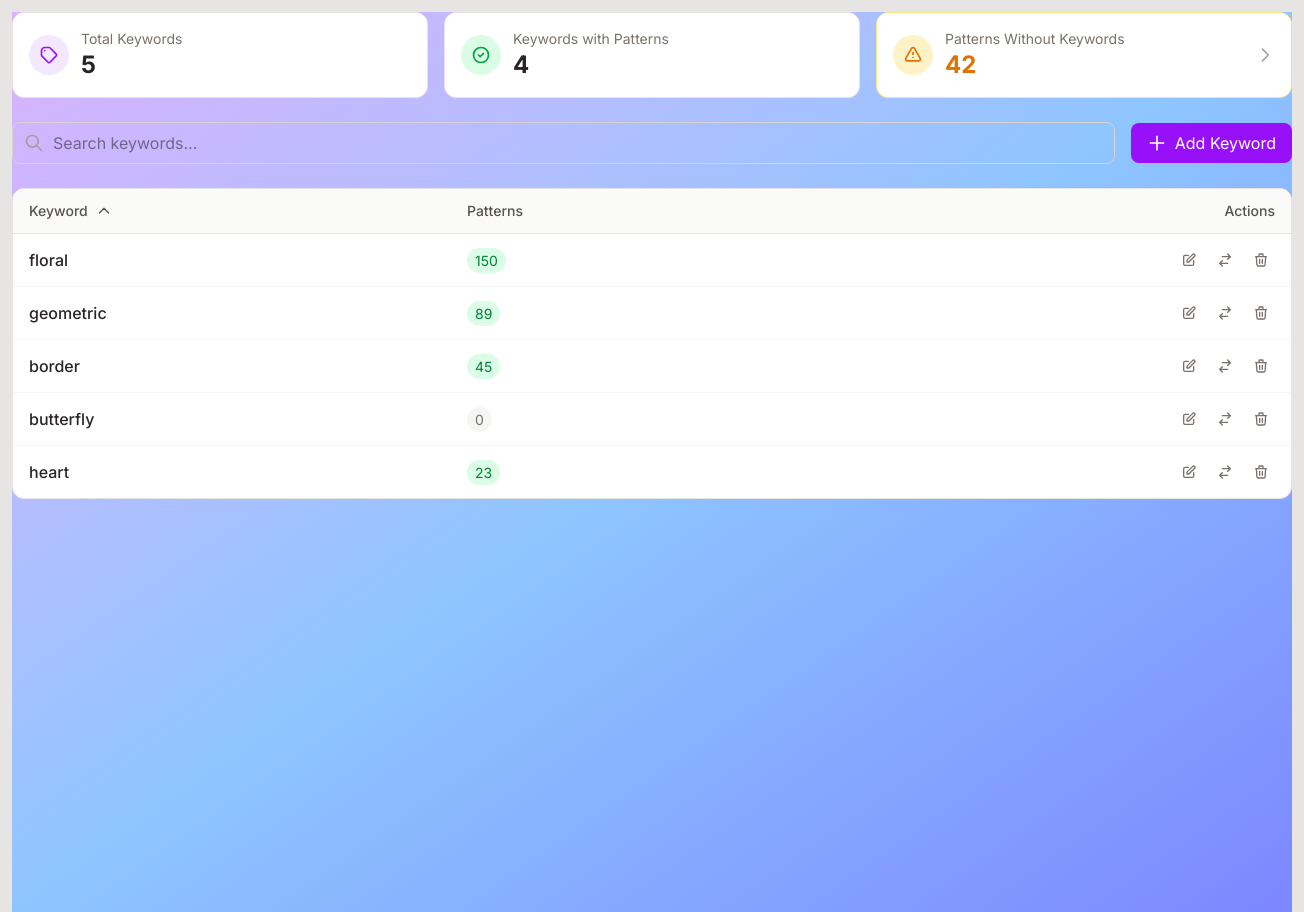
Scenario: KeywordManager › search functionality › shows all keywords when search is cleared
This screenshot has width=1304, height=912.
Expected: the text "floral" is shown, 29,250 -> 68,270
Type "geo" into the field with placeholder "Search keywords..." at (563,143), box 12,122 -> 1115,164
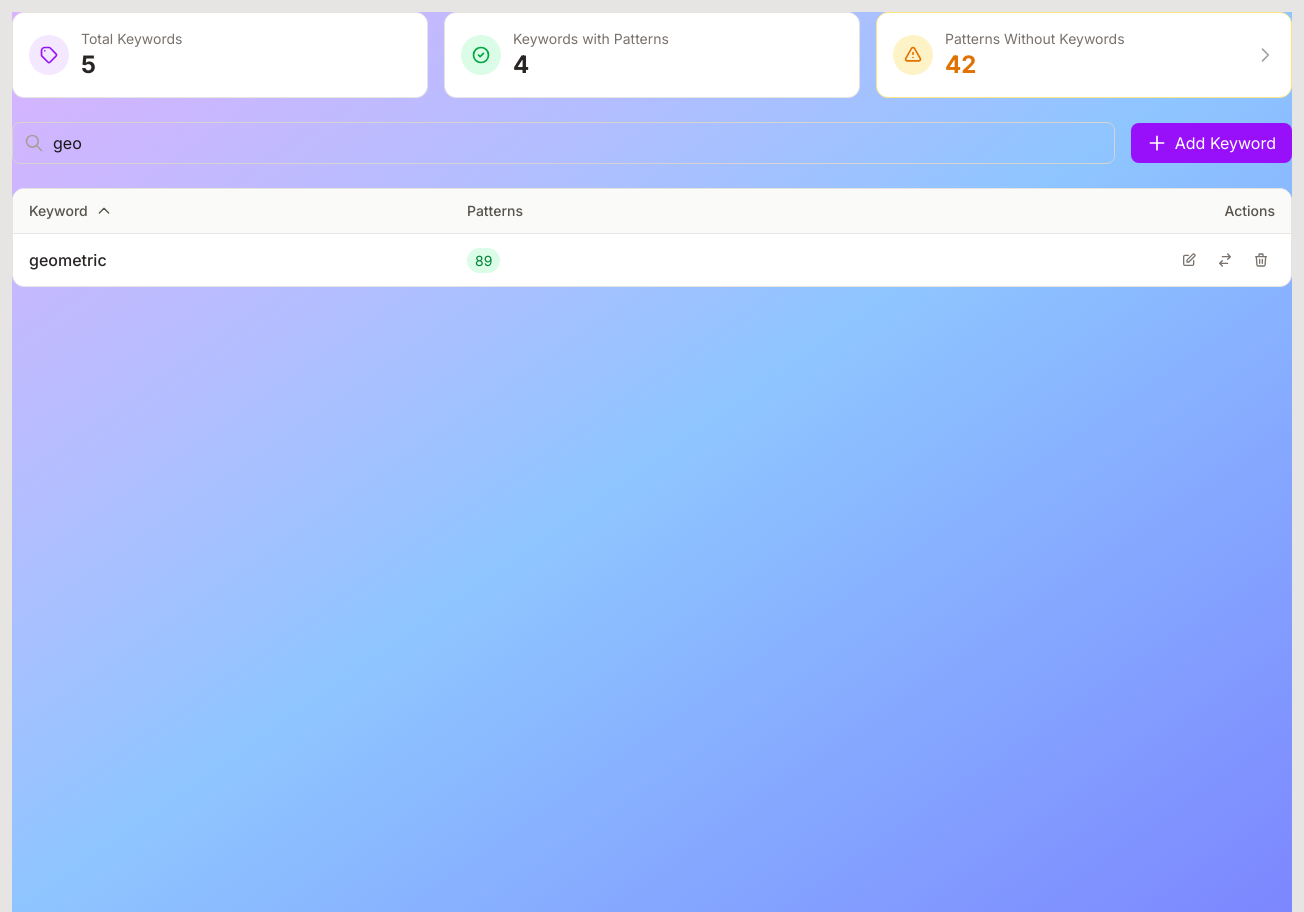
Now the text "floral" is gone
Clear the field with placeholder "Search keywords..." at (563,143), box 12,122 -> 1115,164
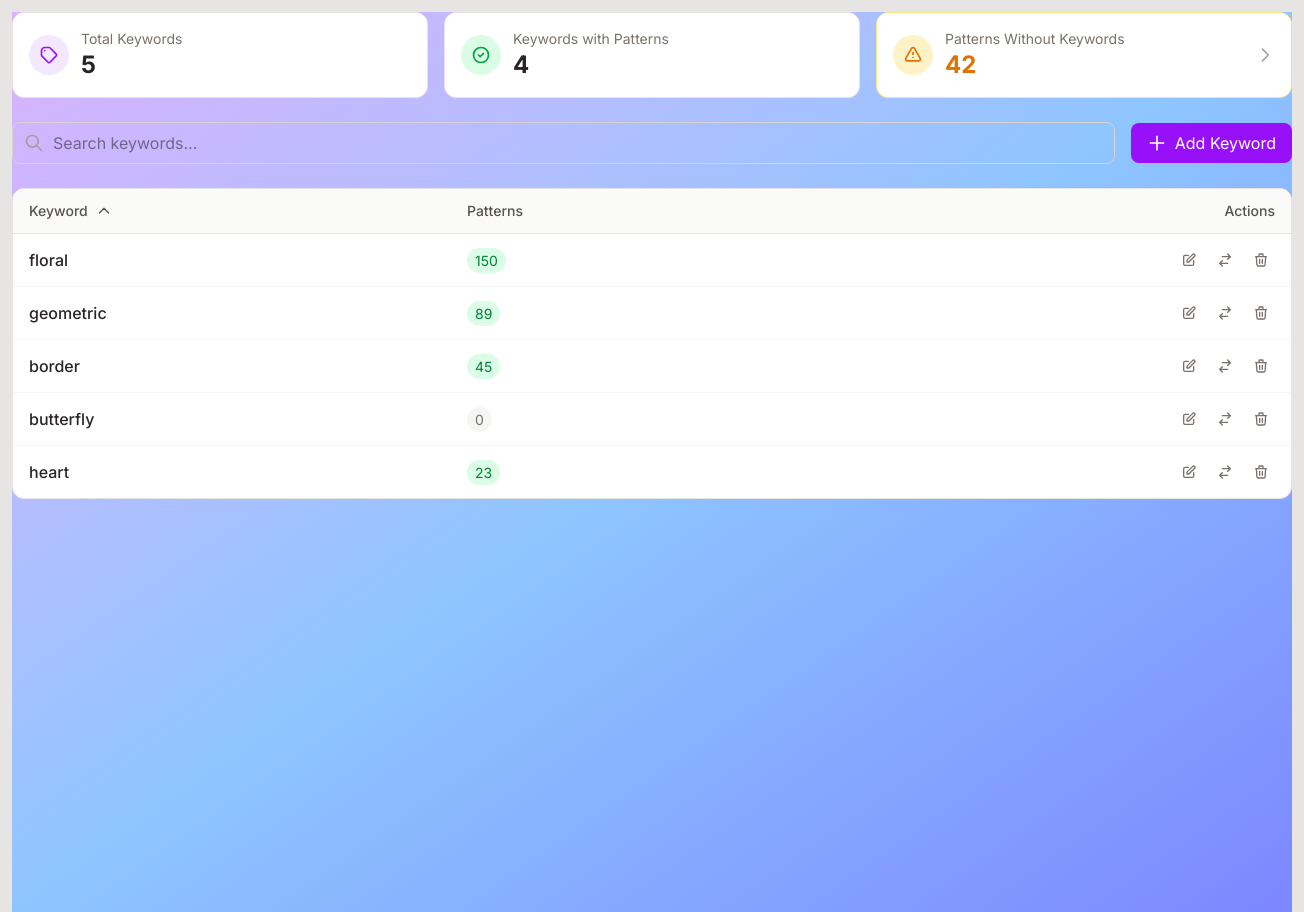
Expected: the text "geometric" is shown, 29,303 -> 107,323
Now the text "floral" is shown, box 29,250 -> 68,270
